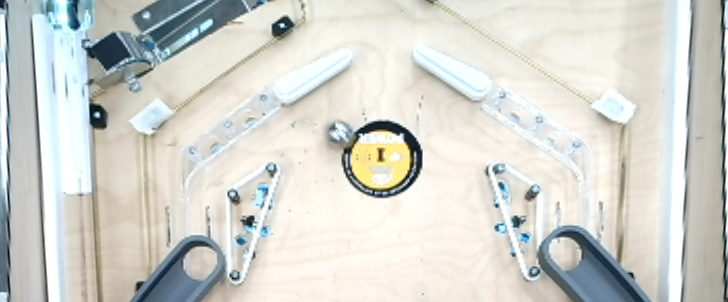ball: (325, 118, 359, 150)
flipper-left: (410, 39, 494, 103)
flipper-right: (269, 45, 356, 106)
